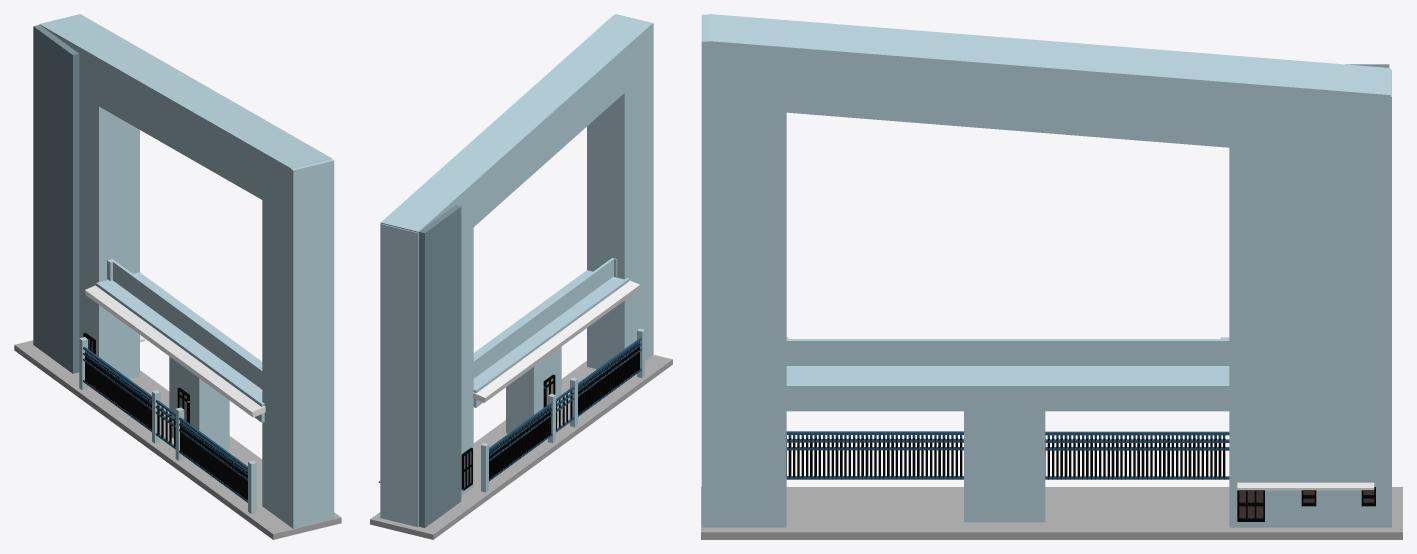
The model's file is Gate.glb.
3 renders of one model, left to right at view 1: azimuth 30°, elevation 25°; view 2: azimuth 150°, elevation 25°; view 3: azimuth 270°, elevation 25°, orthographic. The views are drawn at different scales.
Visible parts, largest first — view 1: cube.053; view 2: cube.053; view 3: cube.053.
Boxes of the visible parts, x1,y1,x2,y2 form: cube.053: (14, 14, 341, 539); cube.053: (370, 14, 672, 539); cube.053: (701, 14, 1402, 539).
Size of the model in its own units: 1.59 by 7.97 by 10.25.
7 materials, 7 textured.
